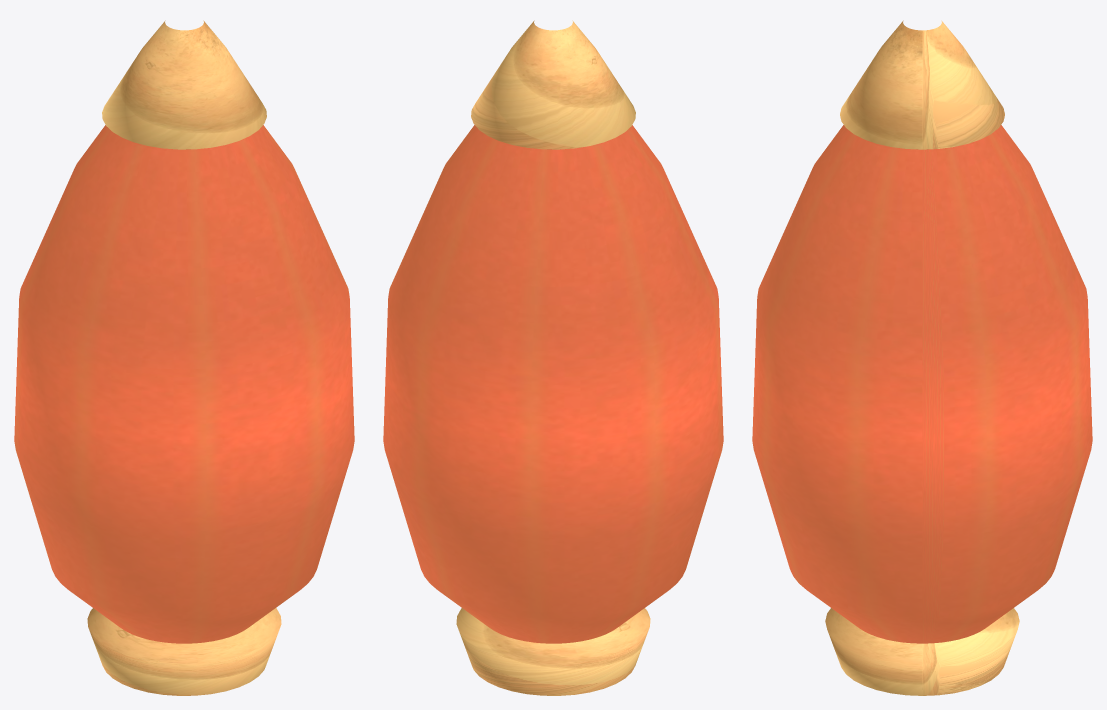
The model's file is lantern.glb.
3 renders of one model, left to right at view 1: azimuth 30°, elevation 25°; view 2: azimuth 150°, elevation 25°; view 3: azimuth 270°, elevation 25°, orthographic.
Bounding box in the file's own units: 0.14 × 0.3 × 0.14.
Materials: 3 (3 with a texture image).
